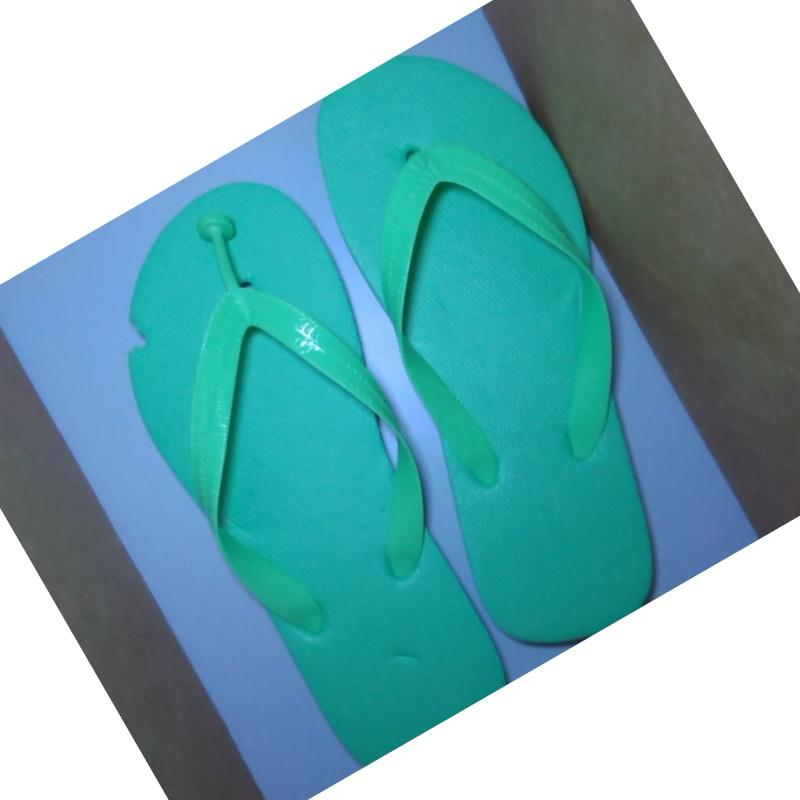chipped: (113, 308, 163, 370)
detached: (188, 204, 251, 264)
